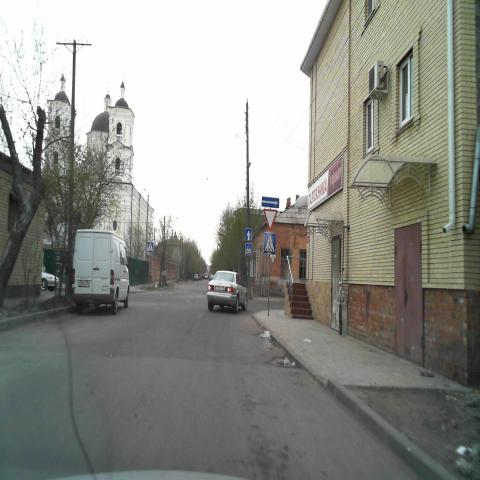5_5: (245, 226, 252, 239)
5_7_1: (260, 196, 280, 208)
